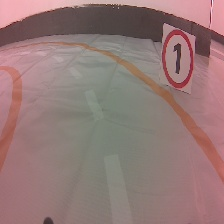limit: (160, 21, 196, 95)
